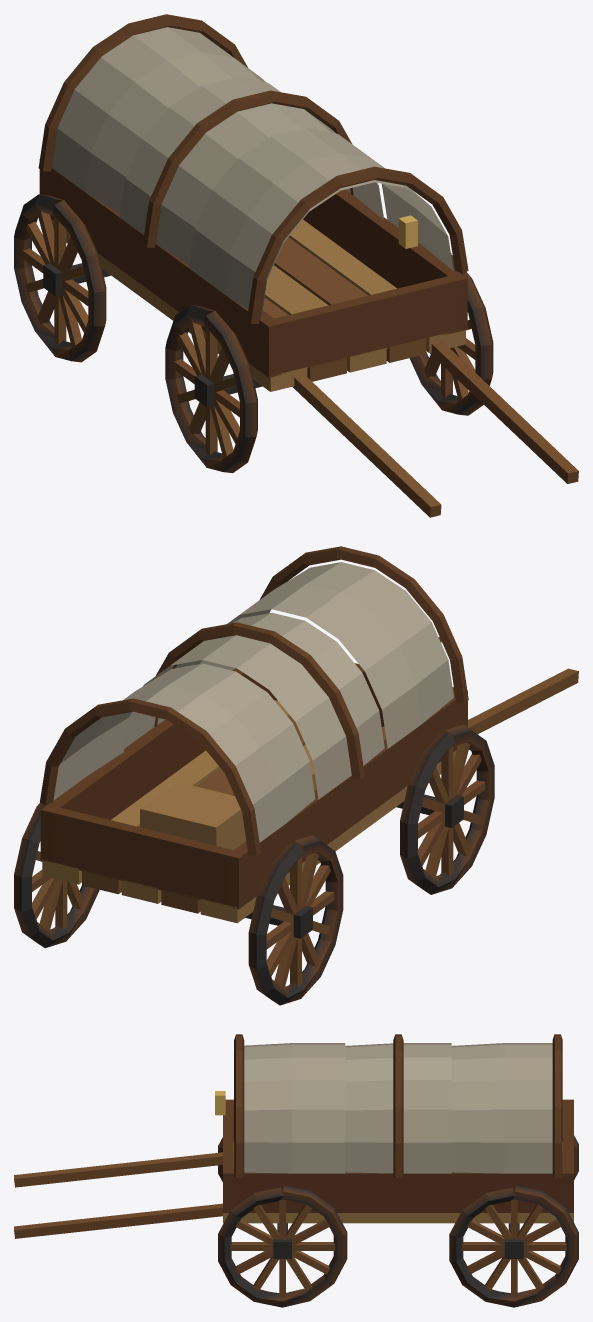
Rendered from wagon_covered.glb.
3 views of the same model, one above another, from view 1: azimuth 30°, elevation 25°; view 2: azimuth 150°, elevation 25°; view 3: azimuth 270°, elevation 25° (orthographic). The views are drawn at different scales.
Parts seen in each view (by area): view 1: wagon_covered_solid; view 2: wagon_covered_solid; view 3: wagon_covered_solid.
Part boxes in pixels (x1,y1,x2,y2): wagon_covered_solid: [14, 14, 578, 517]; wagon_covered_solid: [14, 546, 578, 1005]; wagon_covered_solid: [14, 1034, 578, 1307].
Bounding box in the file's own units: 1.68 × 1.79 × 4.19.
